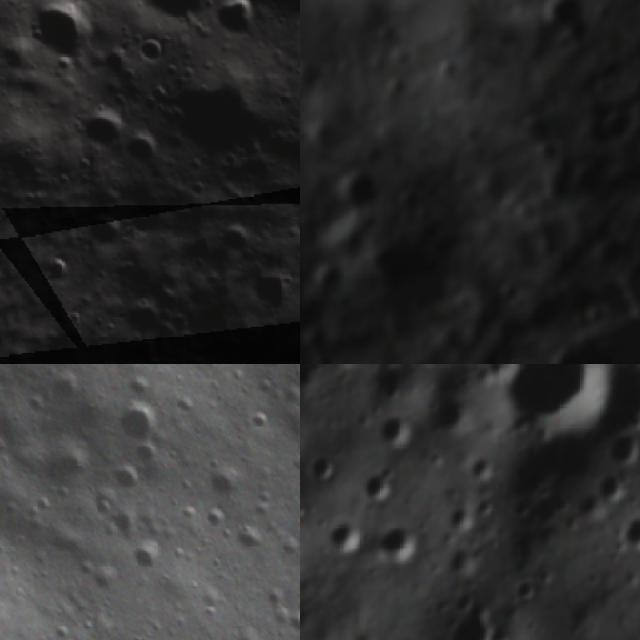crater: (349, 238, 464, 358), (495, 364, 620, 449), (24, 0, 109, 74), (517, 0, 608, 64), (325, 153, 399, 226), (589, 364, 640, 440), (70, 94, 131, 155), (117, 0, 220, 35), (112, 398, 172, 458), (367, 517, 426, 569), (356, 460, 404, 514), (214, 0, 274, 40), (443, 601, 504, 640), (430, 386, 477, 436), (48, 364, 95, 412), (33, 242, 79, 290), (122, 125, 170, 169), (133, 27, 176, 73), (230, 518, 276, 561), (109, 456, 152, 500), (207, 460, 250, 502), (599, 428, 640, 471), (130, 536, 173, 576), (324, 516, 364, 556), (124, 368, 163, 407), (377, 411, 414, 452), (242, 404, 279, 441), (615, 506, 640, 559), (592, 468, 628, 504), (132, 436, 166, 474), (446, 502, 481, 537), (476, 364, 522, 390), (469, 450, 504, 484), (449, 544, 484, 578), (202, 501, 238, 534), (110, 508, 145, 540), (91, 490, 122, 524), (174, 389, 206, 421), (306, 451, 338, 480), (287, 190, 300, 249), (514, 574, 540, 602), (53, 619, 79, 640), (0, 434, 13, 466), (519, 631, 556, 640)
